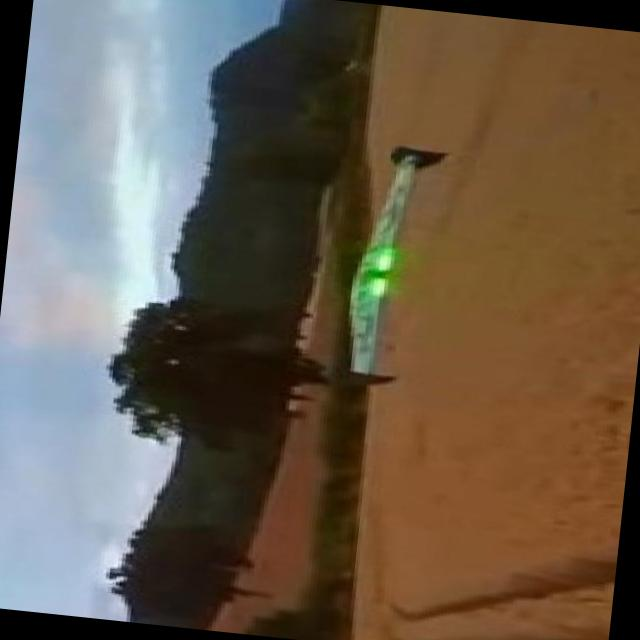UAV: (294, 151, 462, 404)
